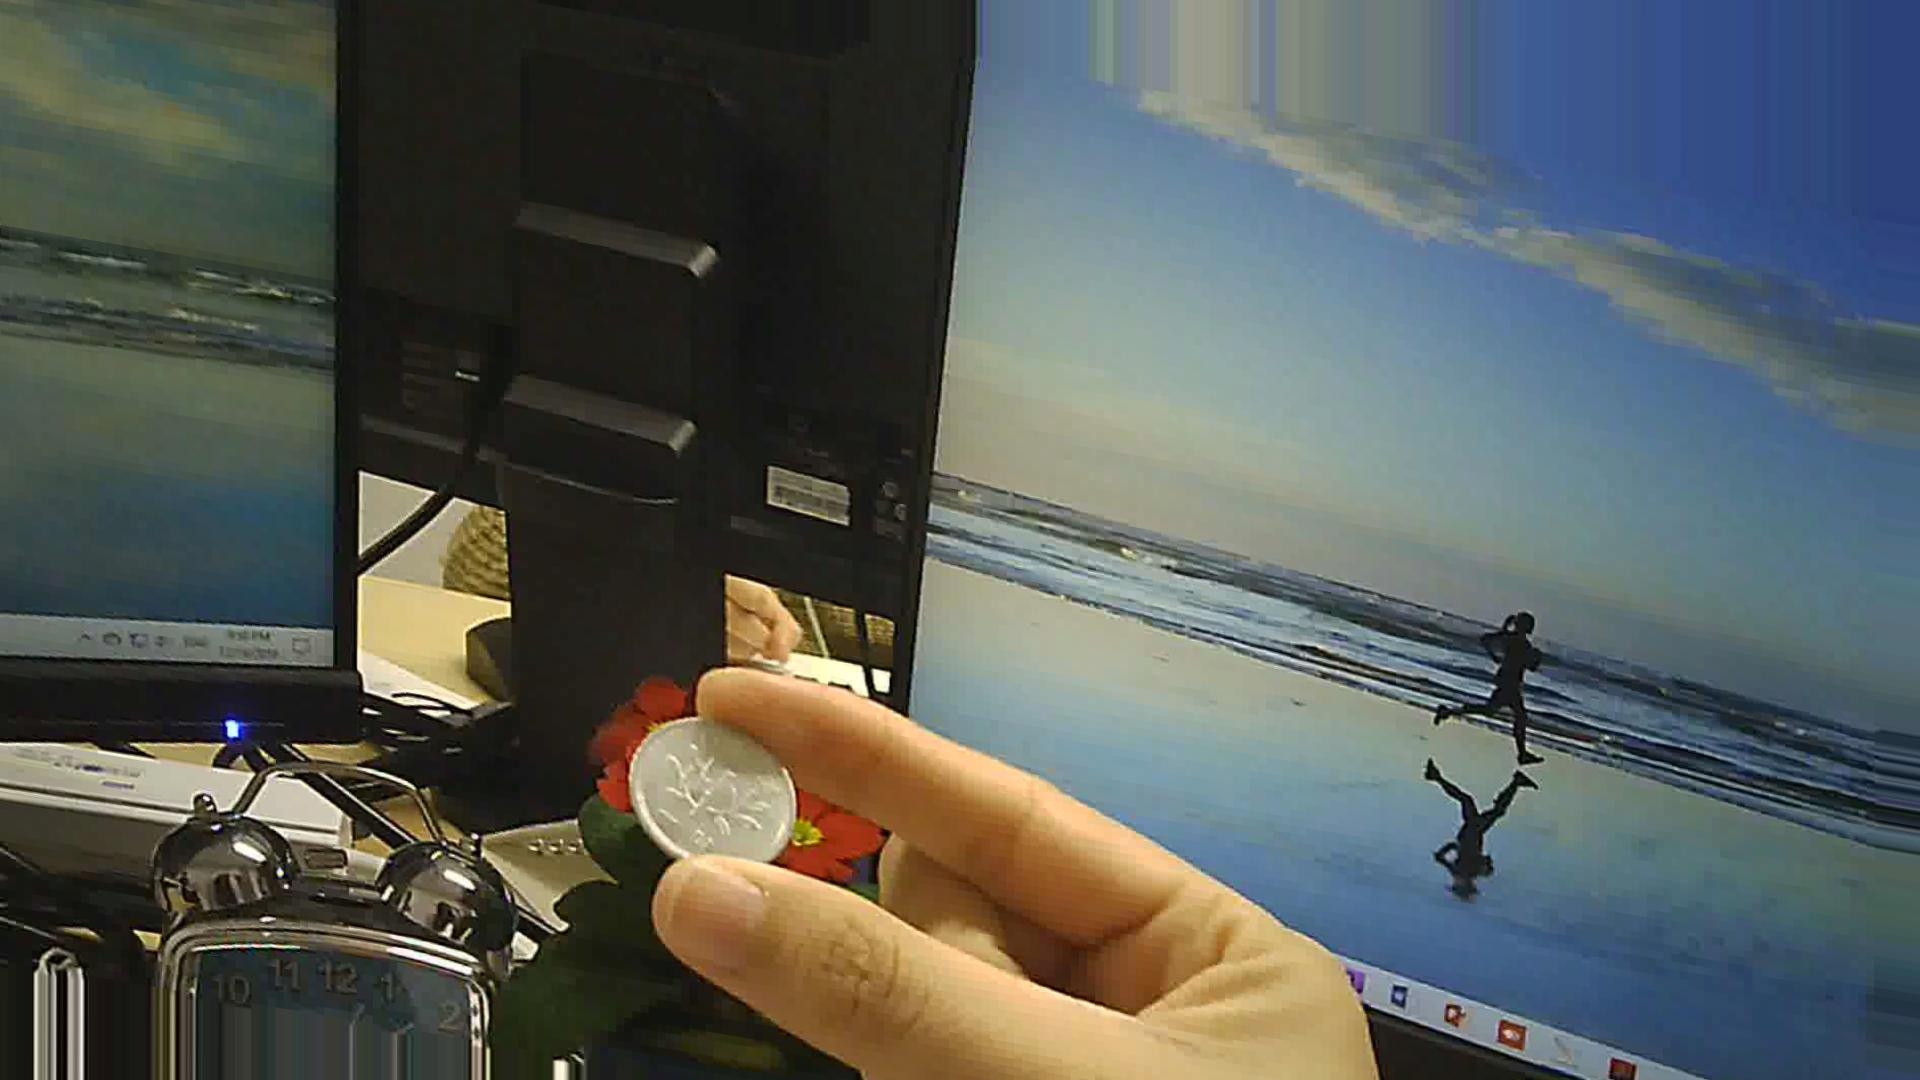1 Yen: (625, 715, 814, 885)
